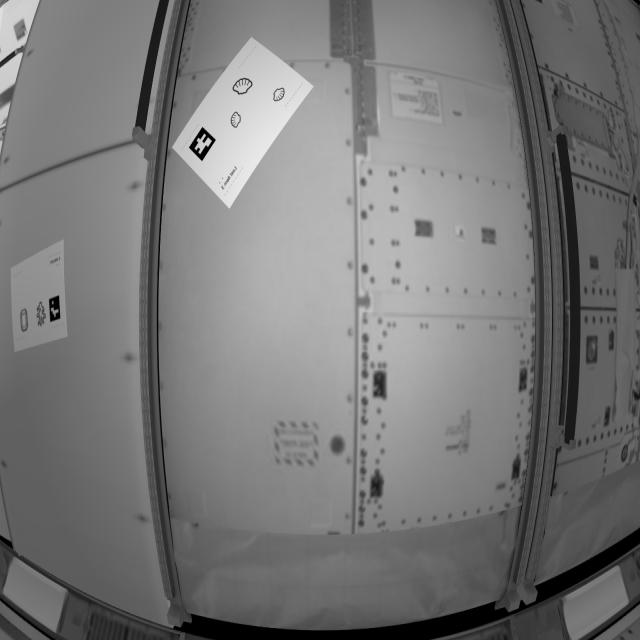coral: (35, 301, 50, 331)
emerald: (18, 307, 32, 335)
shell: (232, 77, 256, 100), (230, 111, 243, 131), (274, 86, 286, 104)
